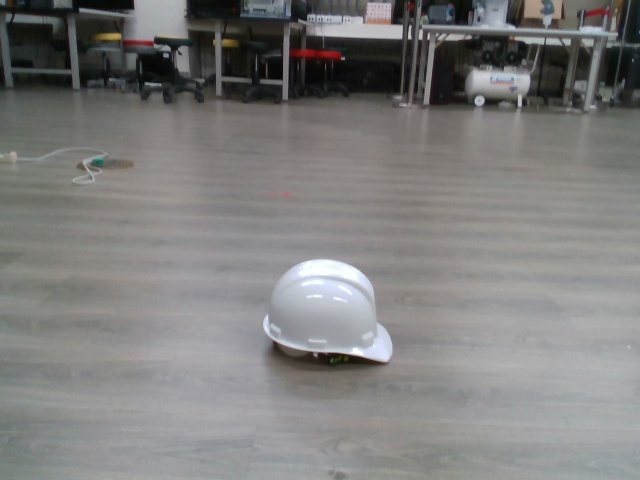helmet: (260, 255, 397, 372)
